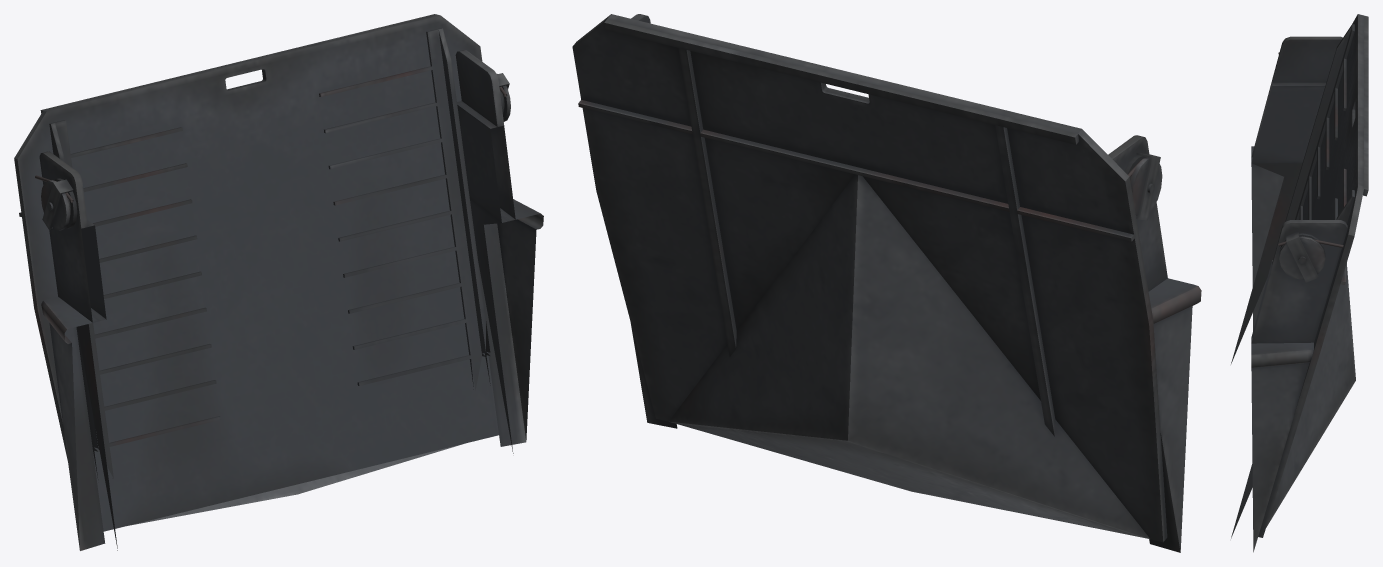
File: lcvp_rampa.glb
The picture shows the model from 3 angles, left to right: view 1: azimuth 30°, elevation 25°; view 2: azimuth 150°, elevation 25°; view 3: azimuth 270°, elevation 25°; orthographic projection. The views are drawn at different scales.
Visible parts, largest first — view 1: door_LCVP_0, lcvp_LCVP_0; view 2: door_LCVP_0, lcvp_LCVP_0; view 3: lcvp_LCVP_0, door_LCVP_0.
Boxes of the visible parts, <box> form: door_LCVP_0: <box>14,14,504,531</box>; lcvp_LCVP_0: <box>39,50,543,550</box>; door_LCVP_0: <box>572,14,1167,542</box>; lcvp_LCVP_0: <box>630,14,1201,552</box>; lcvp_LCVP_0: <box>1231,36,1347,552</box>; door_LCVP_0: <box>1258,14,1368,537</box>.
Bounding box in the file's own units: 2.8 × 2.19 × 0.7752.
2 materials, 2 textured.
